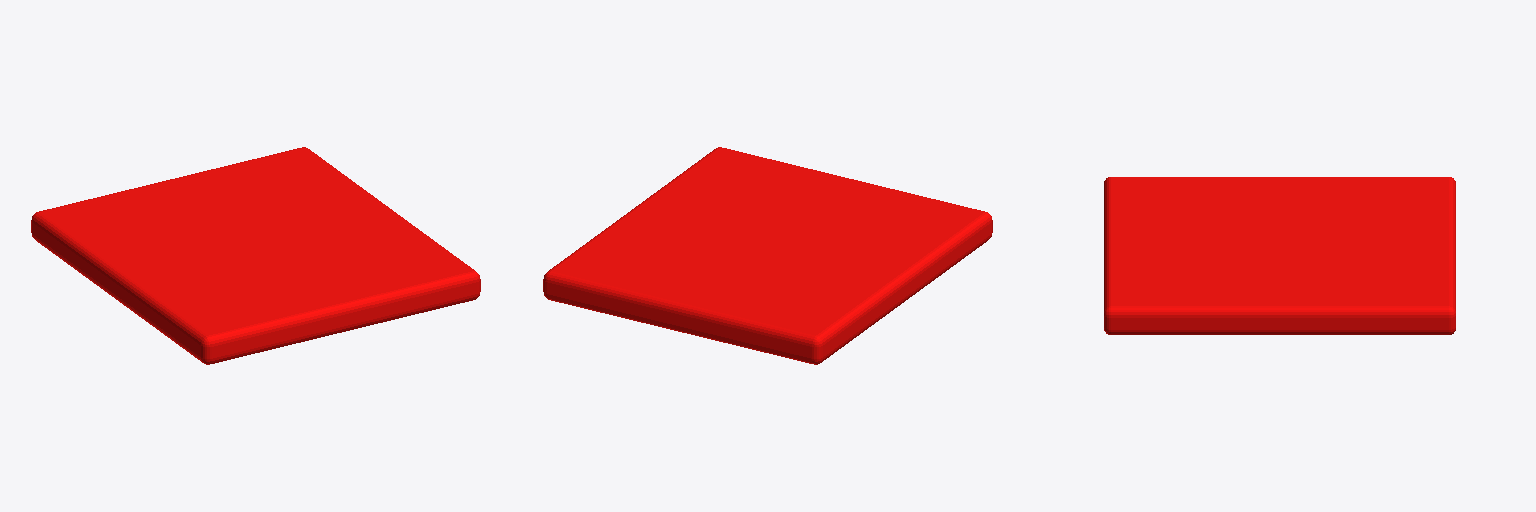
Rendered from RedMat.obj.
The picture shows the model from 3 angles: view 1: azimuth 30°, elevation 25°; view 2: azimuth 150°, elevation 25°; view 3: azimuth 270°, elevation 25°; orthographic projection.
Parts seen in each view (by area): view 1: Red_Mat_Plane.009; view 2: Red_Mat_Plane.009; view 3: Red_Mat_Plane.009.
Part boxes in pixels (bbox=[...]): Red_Mat_Plane.009: bbox=[31, 147, 480, 364]; Red_Mat_Plane.009: bbox=[543, 147, 992, 364]; Red_Mat_Plane.009: bbox=[1104, 177, 1455, 334].
Bounding box in the file's own units: 0.8763 × 0.0858 × 0.9621.